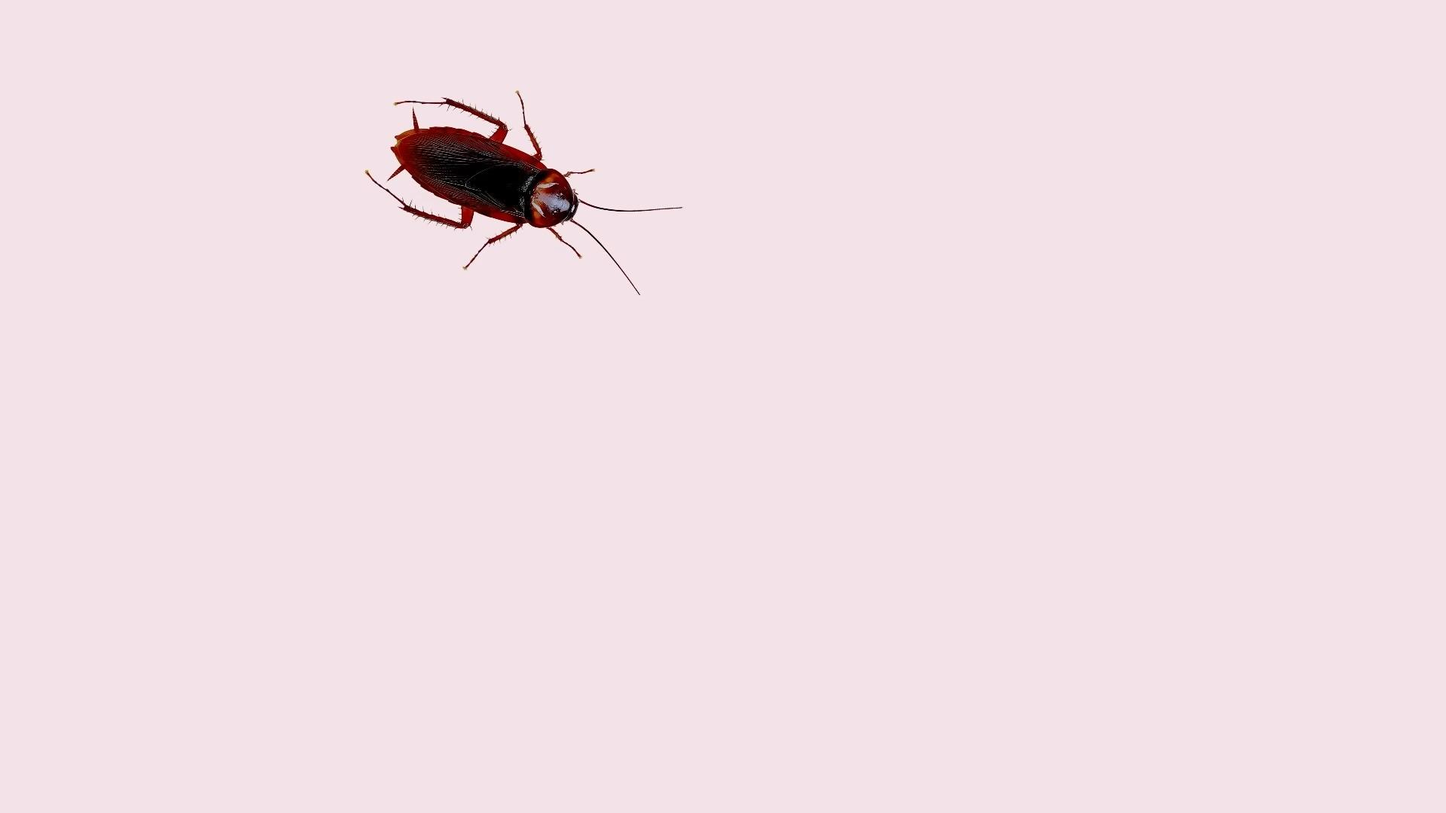cockroach: (366, 91, 658, 285)
